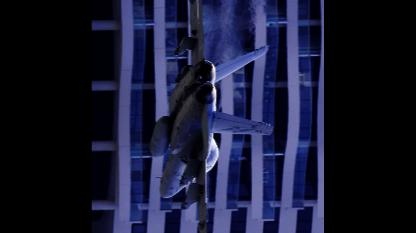F15: (149, 0, 274, 232)
